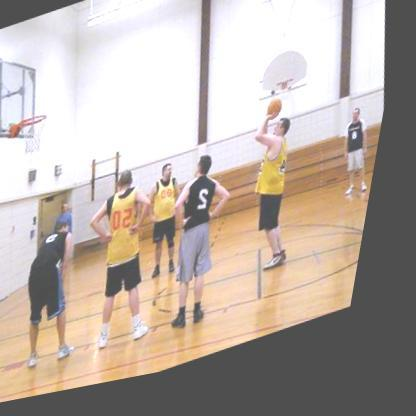basketball: (270, 107, 291, 131)
rim: (24, 113, 53, 132), (280, 88, 299, 100)
